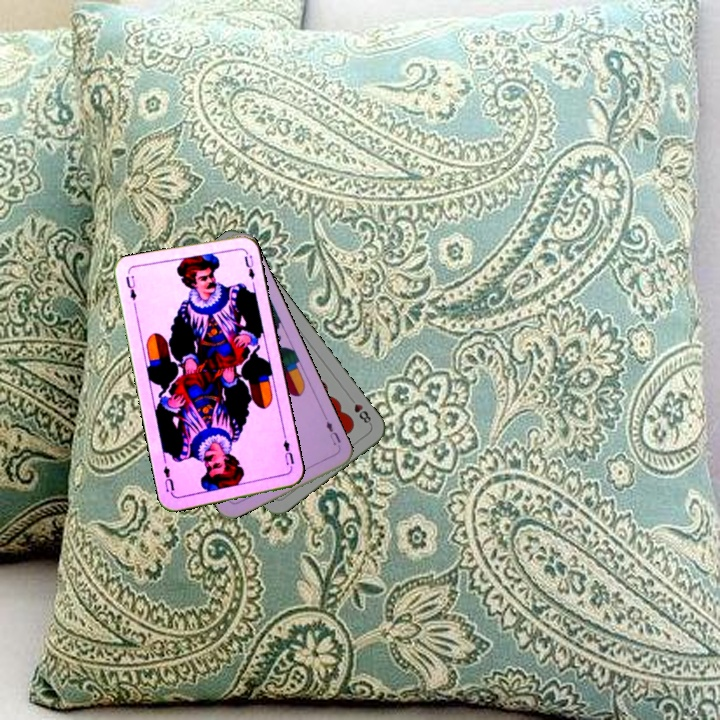EU: (322, 417, 343, 452), (279, 436, 296, 472), (122, 271, 139, 303)
H8: (345, 393, 374, 428)
